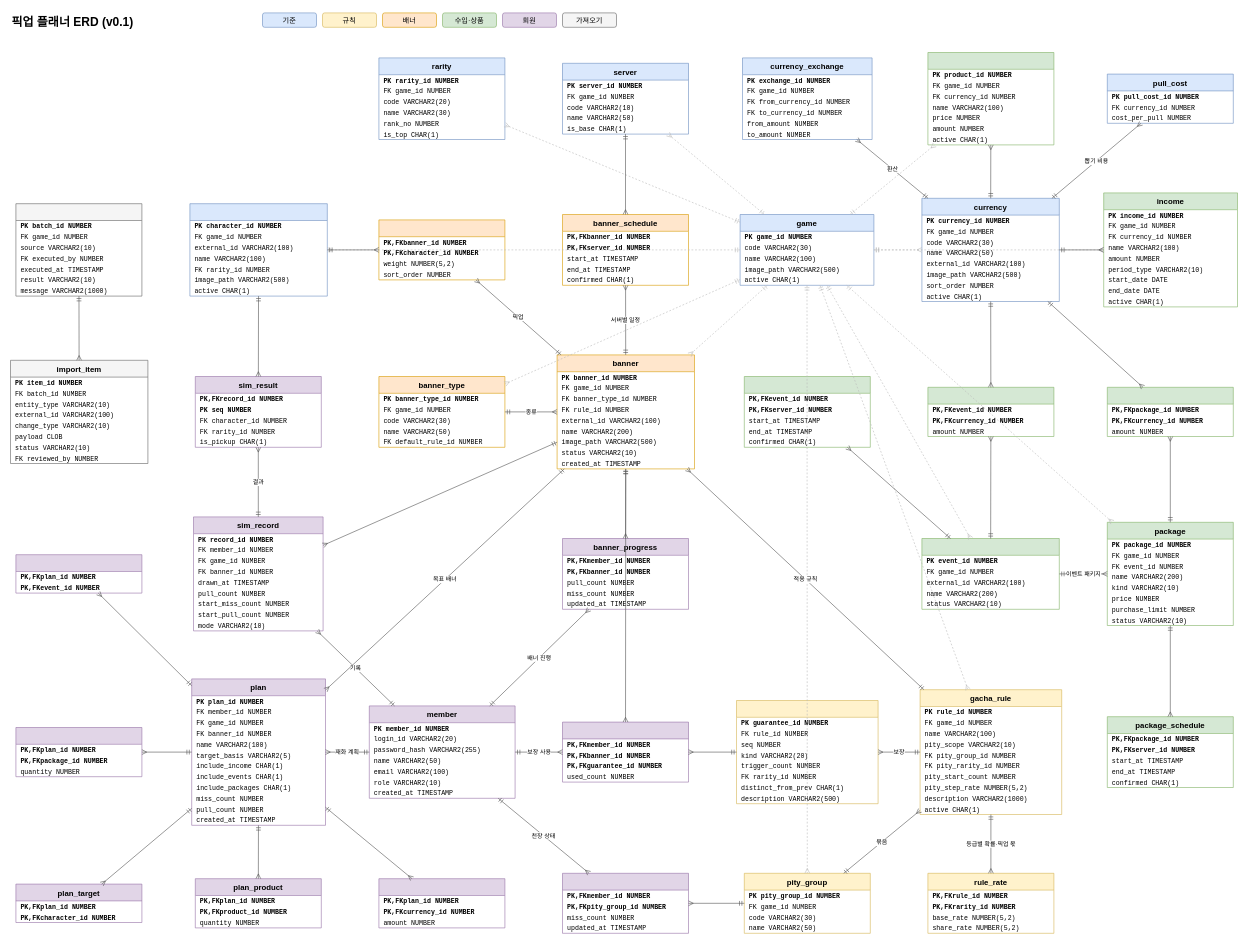
Image size: 1248x944. Some labels were removed from this diagram. The shapes that lost their labels are listed below. From the top down, each one's box as (x1, y1, x2, y2) in pixels, then its label:
(927, 52, 1054, 145): currency_product
(15, 203, 142, 296): import_batch
(189, 203, 327, 296): game_character
(378, 219, 505, 280): banner_pickup
(744, 376, 870, 447): event_schedule
(927, 387, 1054, 436): event_reward
(1107, 387, 1233, 436): package_item
(15, 554, 142, 593): plan_event
(921, 538, 1059, 609): game_event
(15, 727, 142, 777): plan_package
(562, 722, 688, 782): banner_guarantee_use
(736, 700, 878, 804): rule_guarantee
(378, 878, 505, 928): plan_currency
(562, 873, 688, 933): pity_state
